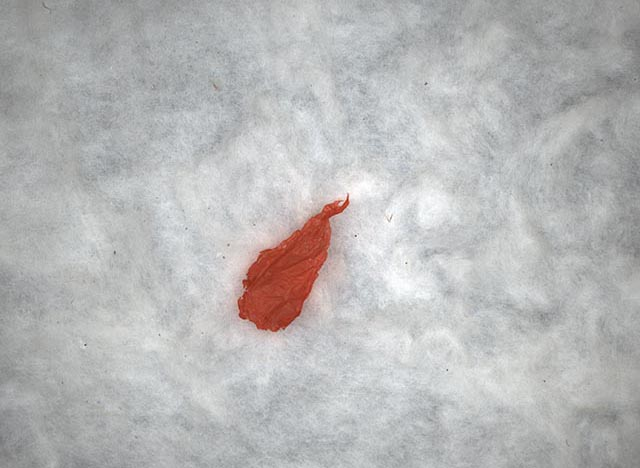plastic film: (236, 192, 353, 331)
